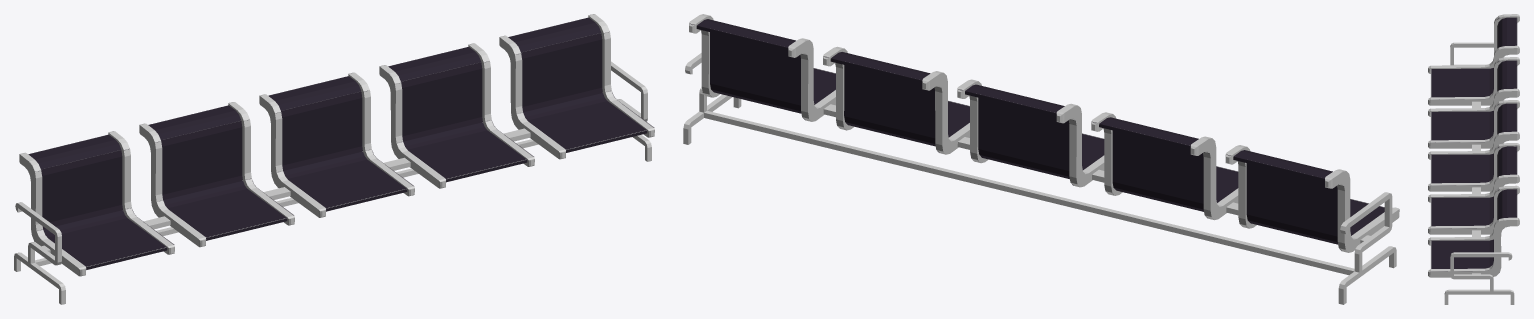
Rendered from MetalChair_LP.fbx.
3 renders of one model, left to right at view 1: azimuth 30°, elevation 25°; view 2: azimuth 150°, elevation 25°; view 3: azimuth 270°, elevation 25°, orthographic. The views are drawn at different scales.
Visible parts, largest first — view 1: MetalChair_Multiple, MetalChairLeg_Single.001; view 2: MetalChair_Multiple, MetalChairLeg_Single.001; view 3: MetalChair_Multiple, MetalChairLeg_Single.001.
Part boxes in pixels (x1,y1,x2,y2): MetalChair_Multiple: (19, 14, 654, 276); MetalChairLeg_Single.001: (14, 61, 651, 304); MetalChair_Multiple: (689, 14, 1399, 252); MetalChairLeg_Single.001: (683, 53, 1396, 304); MetalChair_Multiple: (1428, 14, 1519, 277); MetalChairLeg_Single.001: (1444, 42, 1514, 304).
Bounding box in the file's own units: 2660 × 489 × 484.
2 materials, 1 textured.
